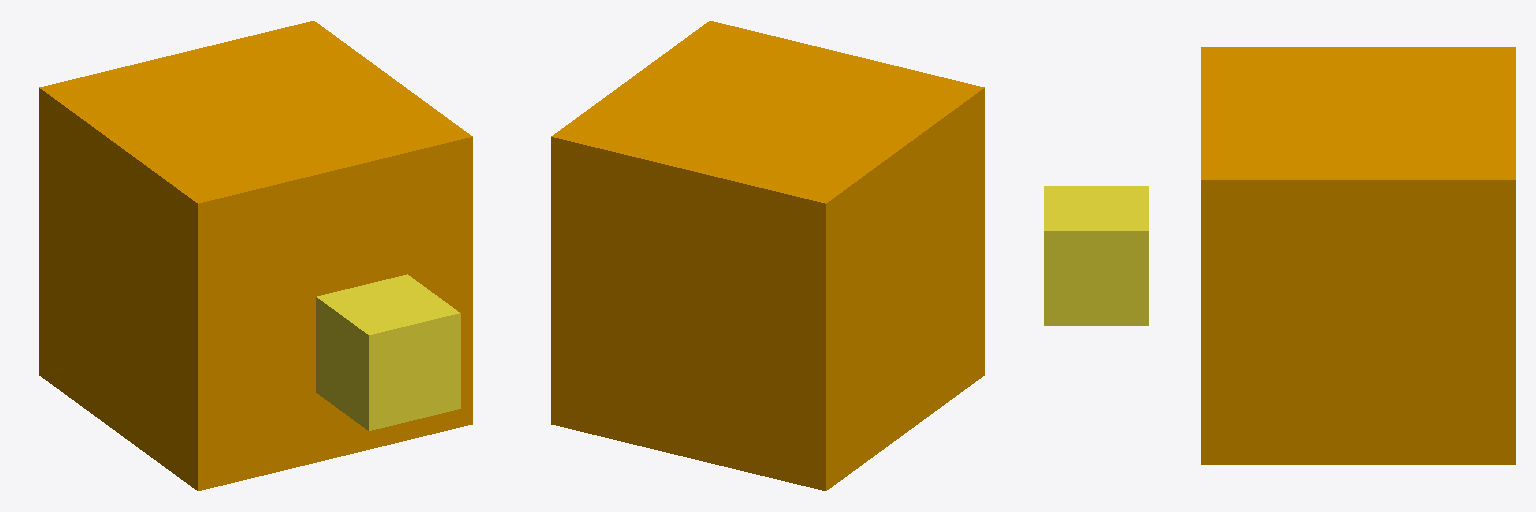
robot.urdf — self_filter_test:
<robot name="self_filter_test">
  <link name="base">
    <visual><geometry><box size="1.2 1.2 1.2"/></geometry></visual>
    <collision><geometry><box size="0.4 0.4 0.4"/></geometry></collision>
    <collision><origin xyz="0.5 0 0"/><geometry><sphere radius="0.1"/></geometry></collision>
  </link>
  <link name="tip">
    <collision><origin xyz="0.2 0 0"/><geometry><box size="0.4 0.1 0.1"/></geometry></collision>
  </link>
  <joint name="hinge" type="revolute">
    <parent link="base"/><child link="tip"/><origin xyz="0.8 0 0"/>
    <axis xyz="0 0 1"/><limit lower="-3.14" upper="3.14" effort="1" velocity="1"/>
  </joint>
  <link name="mesh">
    <collision><geometry><mesh filename="package://pcd_filter/test/tetrahedron.stl" scale="0.5 0.5 0.5"/></geometry></collision>
  </link>
  <joint name="mesh_mount" type="fixed"><parent link="base"/><child link="mesh"/><origin xyz="0 1 0"/></joint>
  <link name="visual_only">
    <visual><geometry><box size="0.4 0.4 0.4"/></geometry></visual>
  </link>
  <joint name="visual_mount" type="fixed"><parent link="base"/><child link="visual_only"/><origin xyz="0 -1 0"/></joint>
</robot>

--- What the picture shows (computed from the rendered views, not written in the file) ---
The picture shows the robot from 3 angles, left to right: view 1: azimuth 30°, elevation 25°; view 2: azimuth 150°, elevation 25°; view 3: azimuth 270°, elevation 25°; orthographic projection.
Model self_filter_test with 4 links and 3 joints (1 revolute, 2 fixed), rooted at base, posed all joints at 0.
Visible links, largest first — view 1: base, visual_only; view 2: base; view 3: base, visual_only.
Link boxes in pixels (x1,y1,x2,y2): base: (39, 21, 472, 490); visual_only: (316, 274, 460, 430); base: (551, 21, 984, 490); base: (1201, 47, 1515, 464); visual_only: (1044, 186, 1148, 325).
Bounding box of the posed robot: 1.2 × 1.8 × 1.2 m (x, y, z).
Geometry: primitives only (box / cylinder / sphere), no mesh files.
